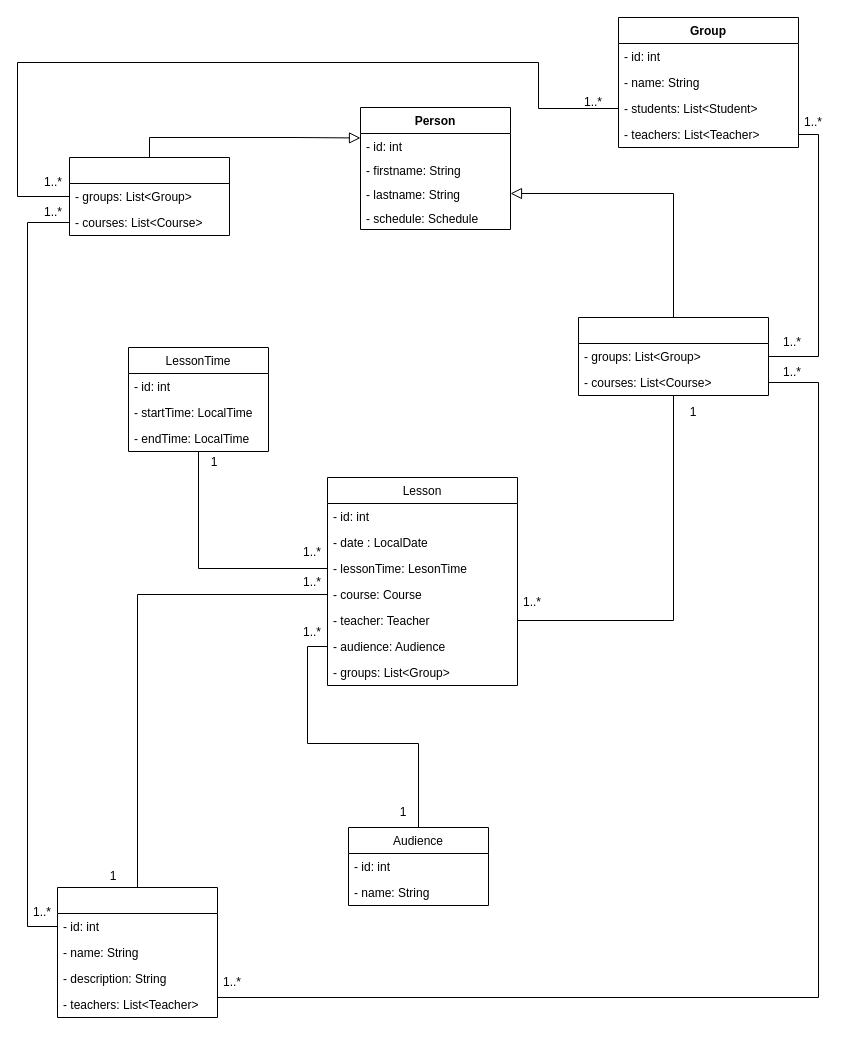
This 846x1038 diagram has some shape labels left out. The box of each missing label's shape, as (x1, y1, x2, y2) in pixels:
Course: (56, 886, 218, 1018)
Student: (68, 156, 230, 236)
Teacher: (578, 316, 768, 396)
